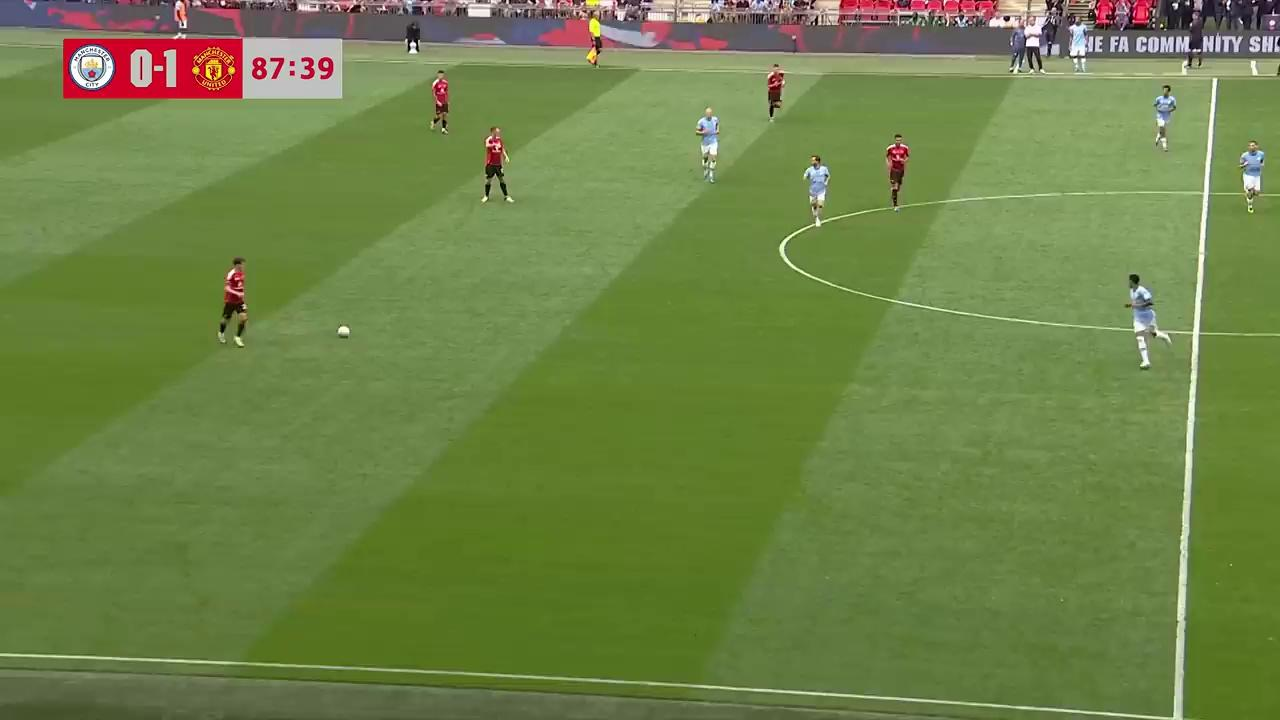ball: (335, 322, 351, 338)
player: (1123, 272, 1174, 369), (217, 256, 248, 347), (481, 129, 513, 204), (801, 154, 830, 225), (695, 105, 720, 182), (885, 132, 909, 211), (1239, 139, 1264, 214), (1153, 85, 1176, 151), (430, 71, 450, 135), (766, 62, 786, 122)
referee: (586, 11, 603, 67)
